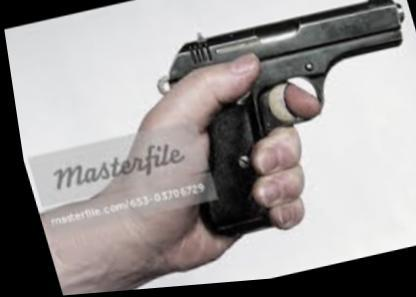pistol: (139, 0, 415, 248)
